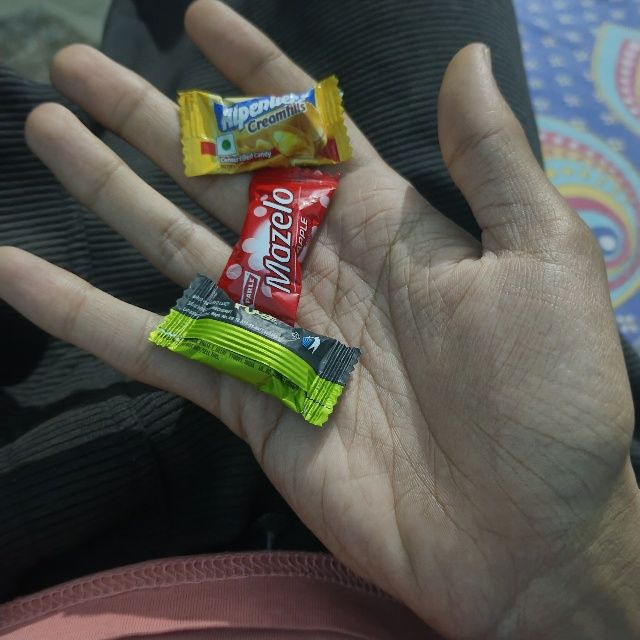Alpenlibe Creamfills: (172, 85, 355, 179)
Mazelo: (265, 143, 351, 312)
Pulse: (189, 271, 386, 348)
